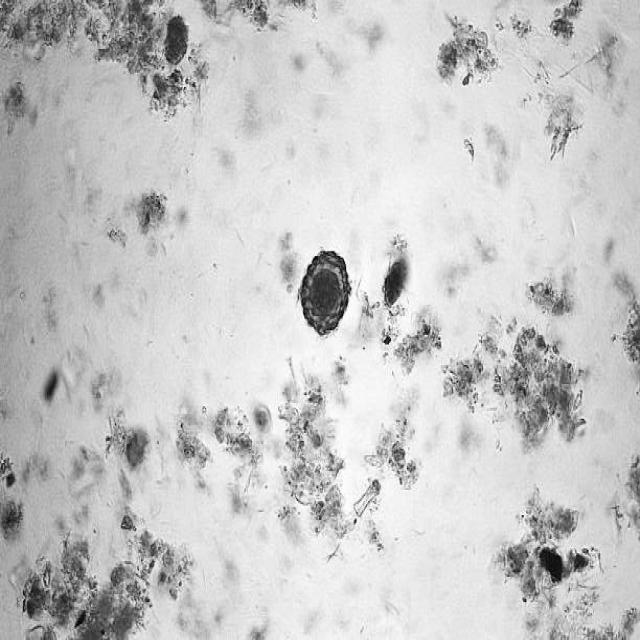Ascaris Lumbricoides: (296, 232, 350, 344)
